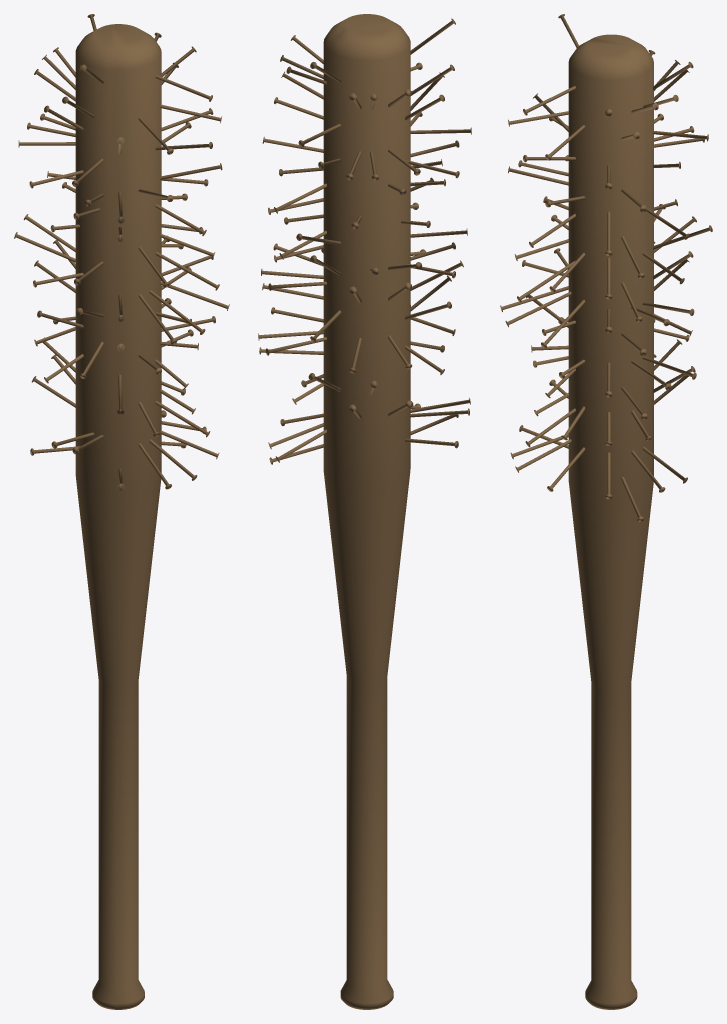
The model's file is nailbatanim.fbx.
3 renders of one model, left to right at view 1: azimuth 30°, elevation 25°; view 2: azimuth 150°, elevation 25°; view 3: azimuth 270°, elevation 25°, orthographic. The views are drawn at different scales.
Visible parts, largest first — view 1: nail.064; view 2: nail.064; view 3: nail.064.
Boxes of the visible parts, box(x1,y1,x2,y2) form: nail.064: box(14, 14, 229, 1009); nail.064: box(258, 14, 471, 1009); nail.064: box(500, 14, 712, 1009).
Bounding box in the file's own units: 491 × 2479 × 498.
